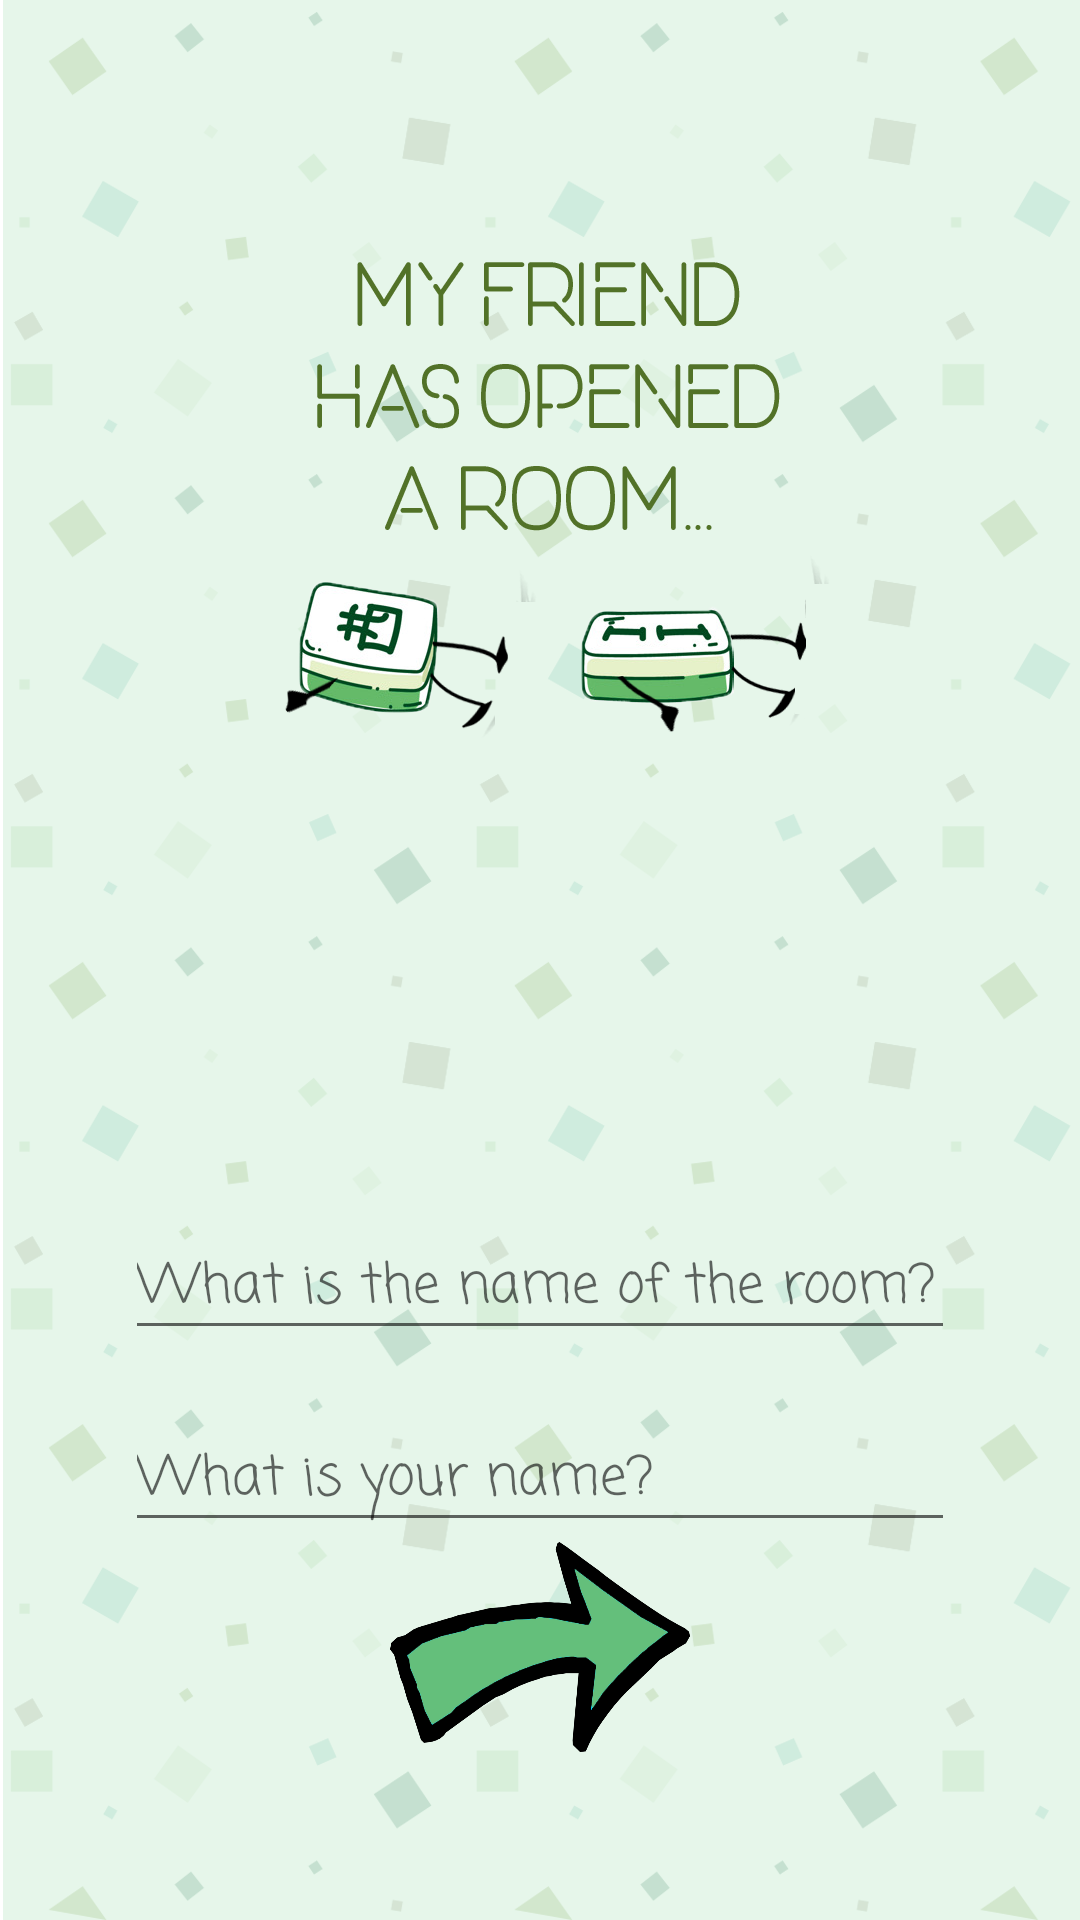

Icons on this 1080×1920 Android screen, each with its box as Rect(x1, y1, x2, y2):
arrow: Rect(390, 1542, 690, 1752)
